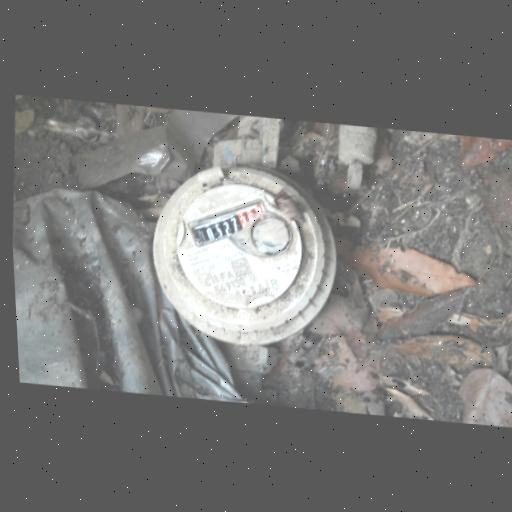0: (202, 224, 217, 243), (195, 227, 208, 244)
2: (236, 212, 252, 230), (220, 219, 235, 237)
5: (211, 221, 227, 239)
6: (245, 209, 257, 222)
7: (227, 215, 244, 234), (252, 203, 264, 217)
border_water_meter_number: (187, 195, 272, 252)
